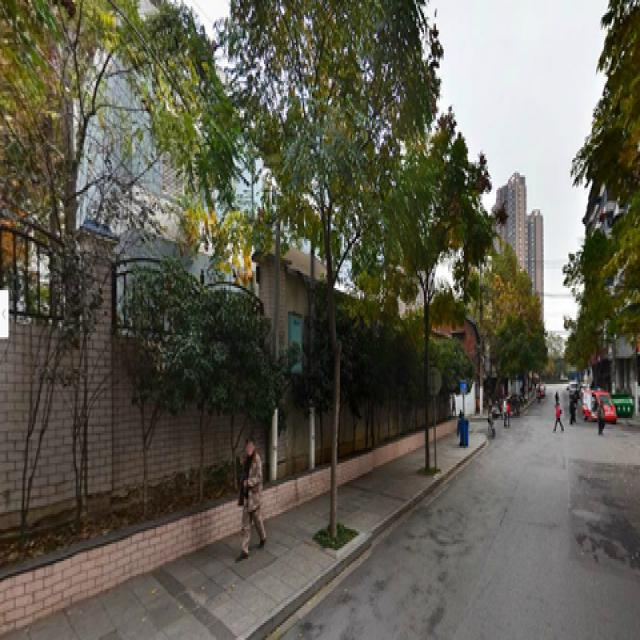koel: (230, 11, 402, 561)
